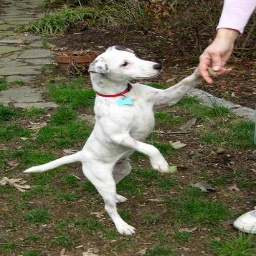dog: (38, 38, 200, 235)
